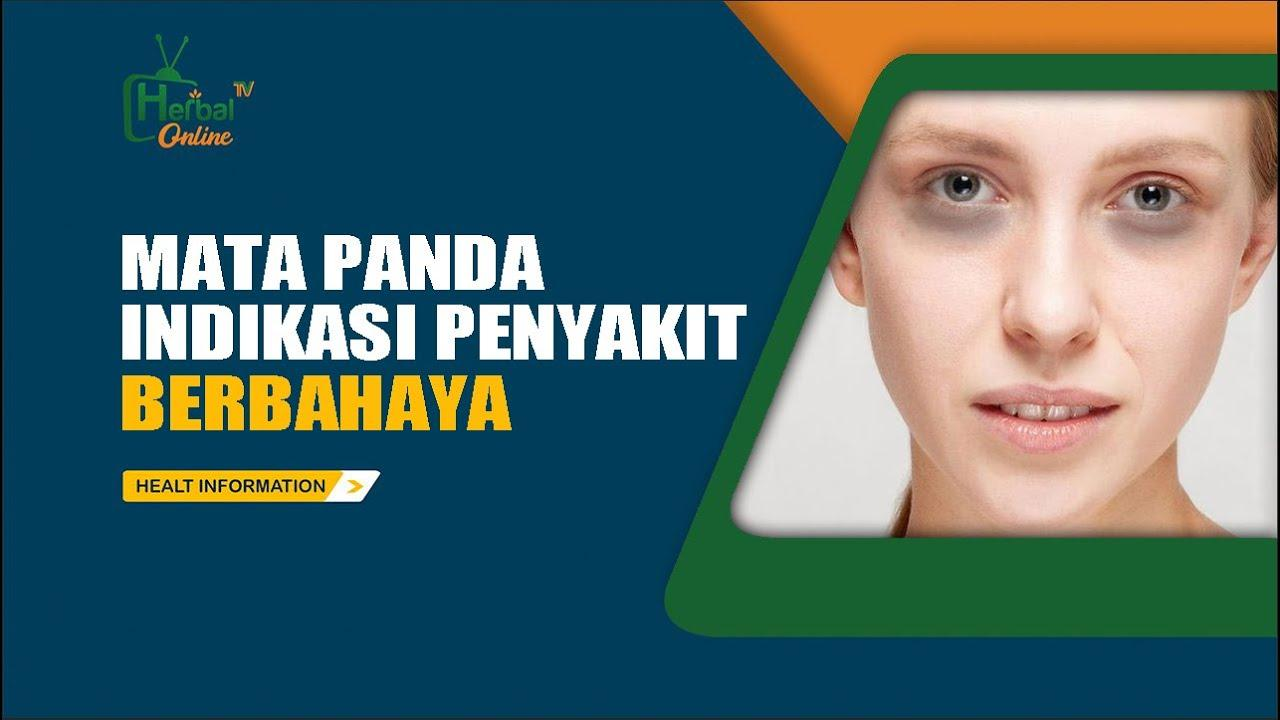Eyebags: (892, 162, 1020, 244), (1098, 186, 1223, 255)
